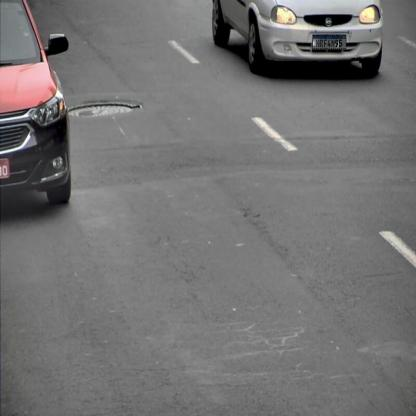PlacaM: (312, 35, 346, 49)
